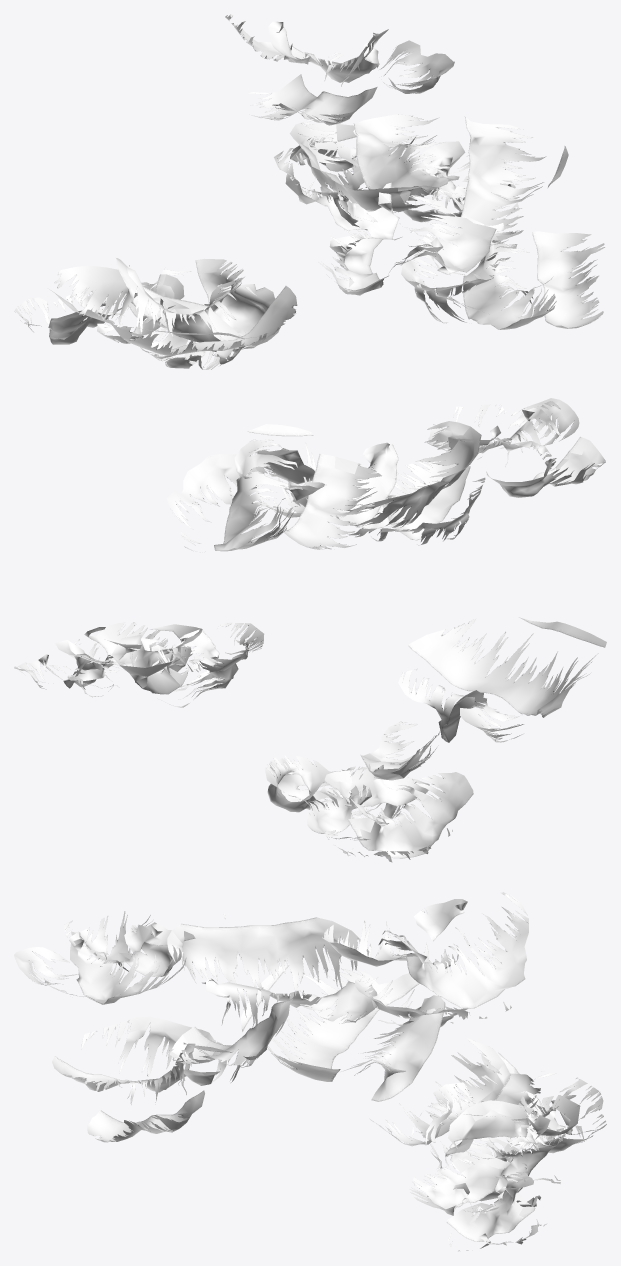
The model's file is SM_ENV_KNFRST_Leaf_GroupGa.FBX.
The picture shows the model from 3 angles, top to bottom: view 1: azimuth 30°, elevation 25°; view 2: azimuth 150°, elevation 25°; view 3: azimuth 270°, elevation 25°; orthographic projection. The views are drawn at different scales.
Visible parts, largest first — view 1: SM_ENV_KNFRST_Leaf_GroupGa; view 2: SM_ENV_KNFRST_Leaf_GroupGa; view 3: SM_ENV_KNFRST_Leaf_GroupGa.
Boxes of the visible parts, x1,y1,x2,y2 form: SM_ENV_KNFRST_Leaf_GroupGa: (14, 14, 604, 369); SM_ENV_KNFRST_Leaf_GroupGa: (14, 398, 606, 862); SM_ENV_KNFRST_Leaf_GroupGa: (14, 892, 606, 1251).
Bounding box in the file's own units: 10839 × 6811 × 11617.
